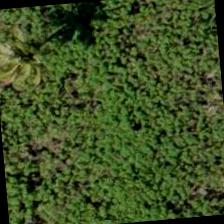Kelapa_Sawit: (19, 0, 116, 76)
